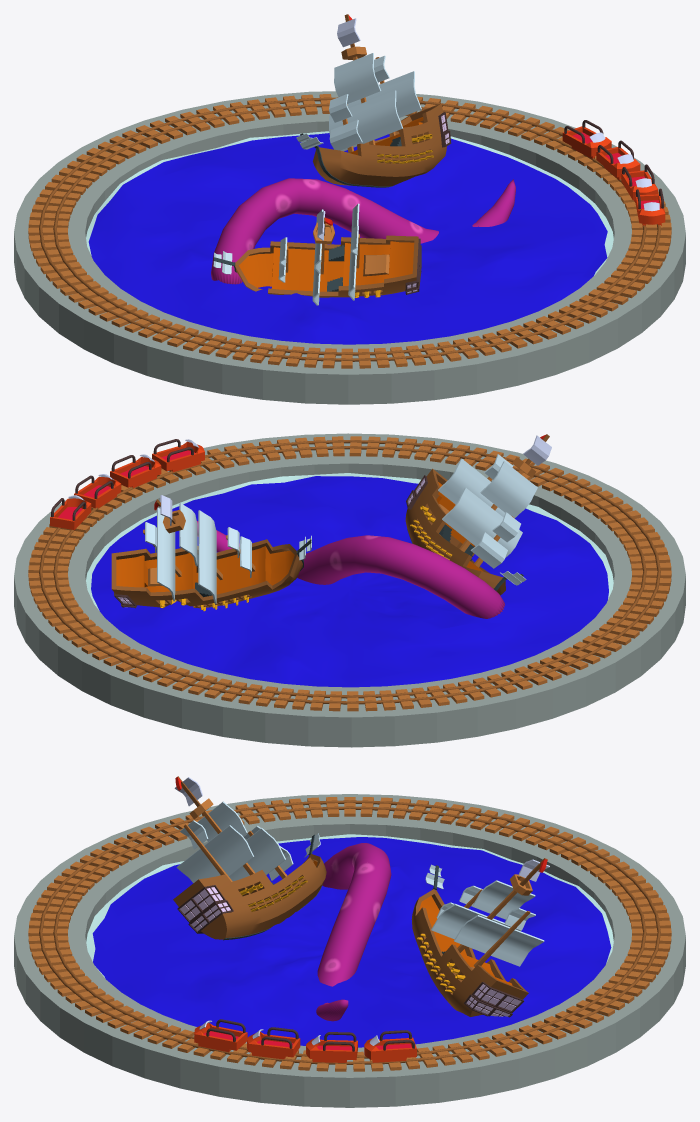
File: FastTrain1.1.fbx
3 renders of one model, top to bottom at view 1: azimuth 30°, elevation 25°; view 2: azimuth 150°, elevation 25°; view 3: azimuth 270°, elevation 25°, orthographic.
Visible parts, largest first — view 1: BezierCircle.003, BezierCircle.002, Cube.001, Cube.003, Cube.002, Cylinder, BezierCircle.001, Cube; view 2: BezierCircle.003, BezierCircle.002, Cube.001, Cube.003, Cube.002, BezierCircle.001, Cylinder, Cube; view 3: BezierCircle.003, BezierCircle.002, Cube.001, Cube.002, Cube.003, BezierCircle.001, Cylinder, Cube.
Part boxes in pixels (x1=…): BezierCircle.003: x1=86, y1=131, x2=613, y2=344; BezierCircle.002: x1=14, y1=91, x2=685, y2=404; Cube.001: x1=28, y1=94, x2=671, y2=368; Cube.003: x1=296, y1=14, x2=451, y2=187; Cube.002: x1=213, y1=203, x2=421, y2=305; Cylinder: x1=211, y1=178, x2=515, y2=284; BezierCircle.001: x1=39, y1=97, x2=660, y2=361; Cube: x1=562, y1=120, x2=665, y2=226; BezierCircle.003: x1=86, y1=473, x2=613, y2=687; BezierCircle.002: x1=14, y1=433, x2=685, y2=747; Cube.001: x1=28, y1=436, x2=671, y2=711; Cube.003: x1=111, y1=495, x2=311, y2=611; Cube.002: x1=405, y1=434, x2=551, y2=595; BezierCircle.001: x1=39, y1=440, x2=660, y2=704; Cylinder: x1=197, y1=521, x2=504, y2=618; Cube: x1=50, y1=439, x2=204, y2=530; BezierCircle.003: x1=86, y1=834, x2=613, y2=1047; BezierCircle.002: x1=14, y1=794, x2=685, y2=1107; Cube.001: x1=28, y1=797, x2=671, y2=1071; Cube.002: x1=173, y1=776, x2=326, y2=940; Cube.003: x1=411, y1=858, x2=549, y2=1017; BezierCircle.001: x1=39, y1=800, x2=660, y2=1064; Cylinder: x1=316, y1=843, x2=391, y2=1021; Cube: x1=194, y1=1019, x2=416, y2=1062.
Size of the model in its own units: 752 by 218 by 752.
Materials: 2 (2 with a texture image).
